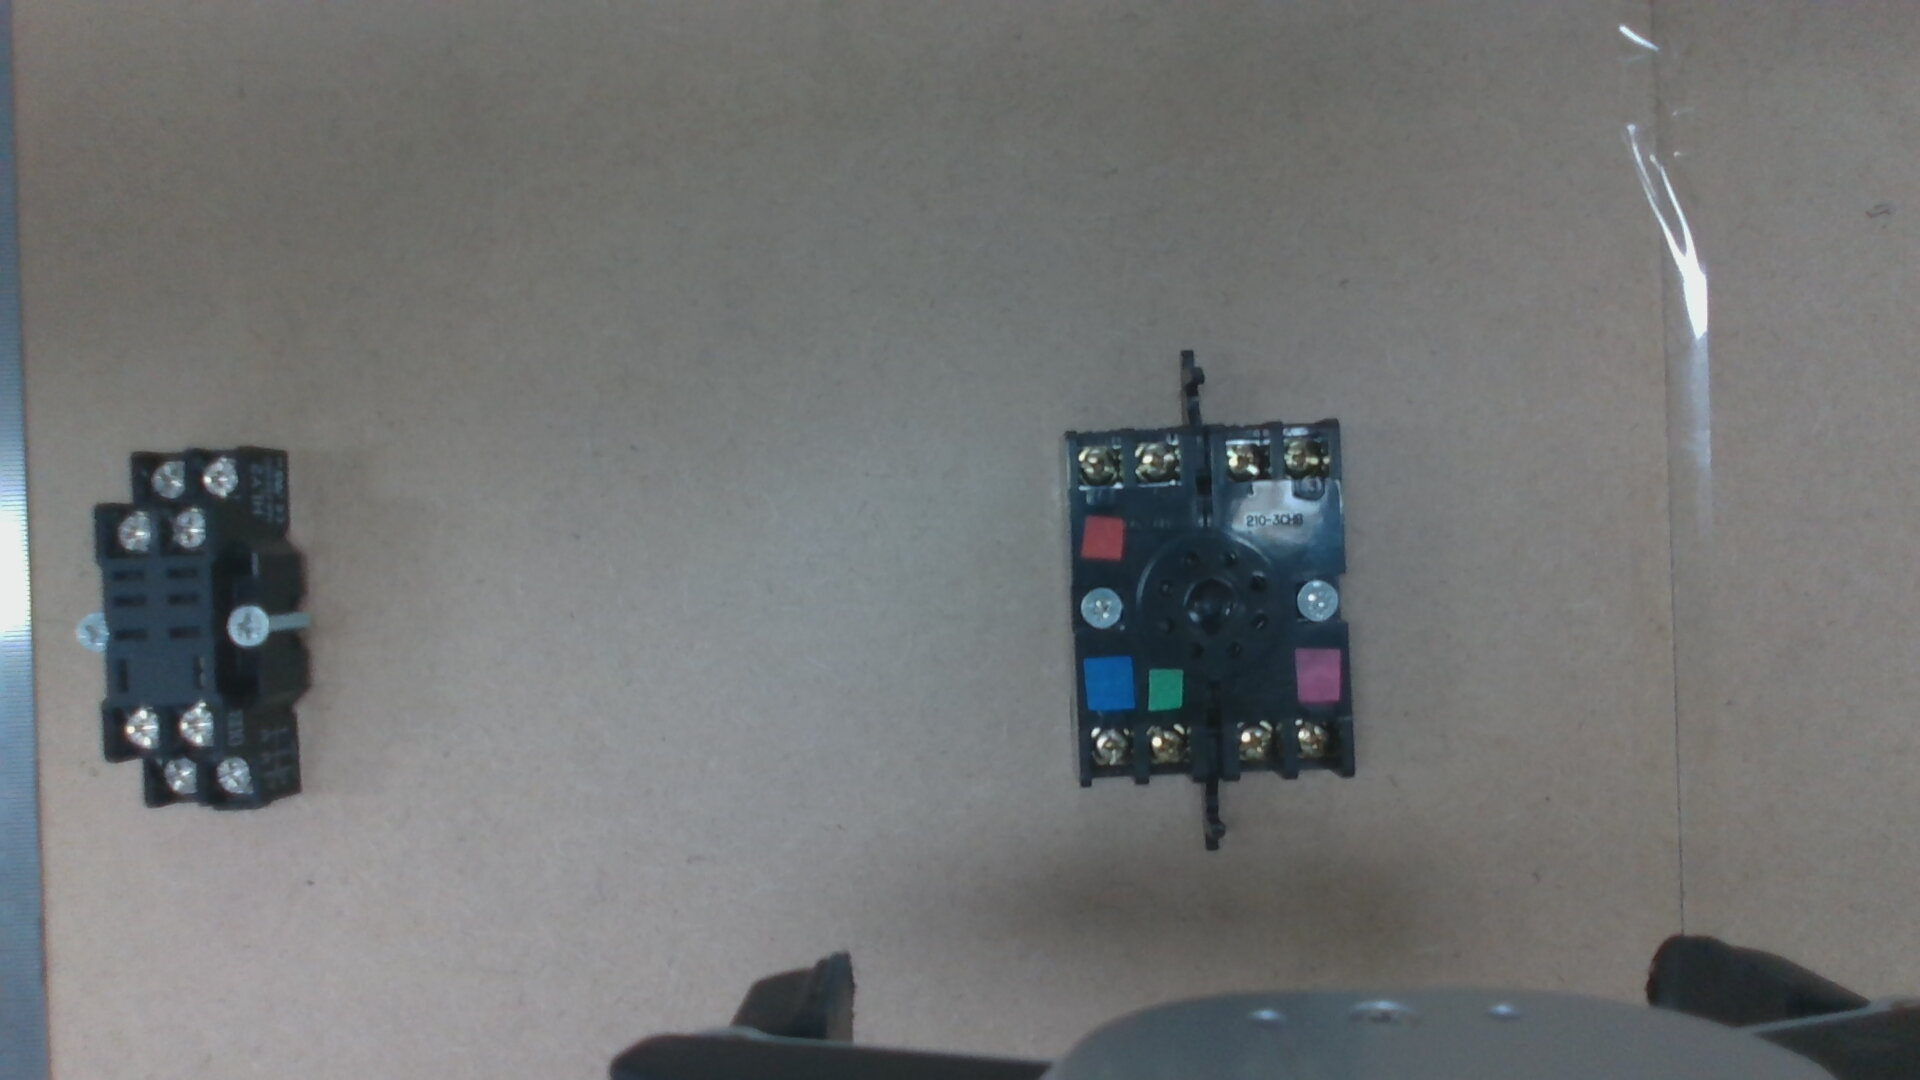timer 2: (1298, 719, 1332, 756)
timer 6: (1077, 447, 1120, 484)
timer 7: (1092, 729, 1130, 764)
timer 8: (1147, 727, 1188, 761)
